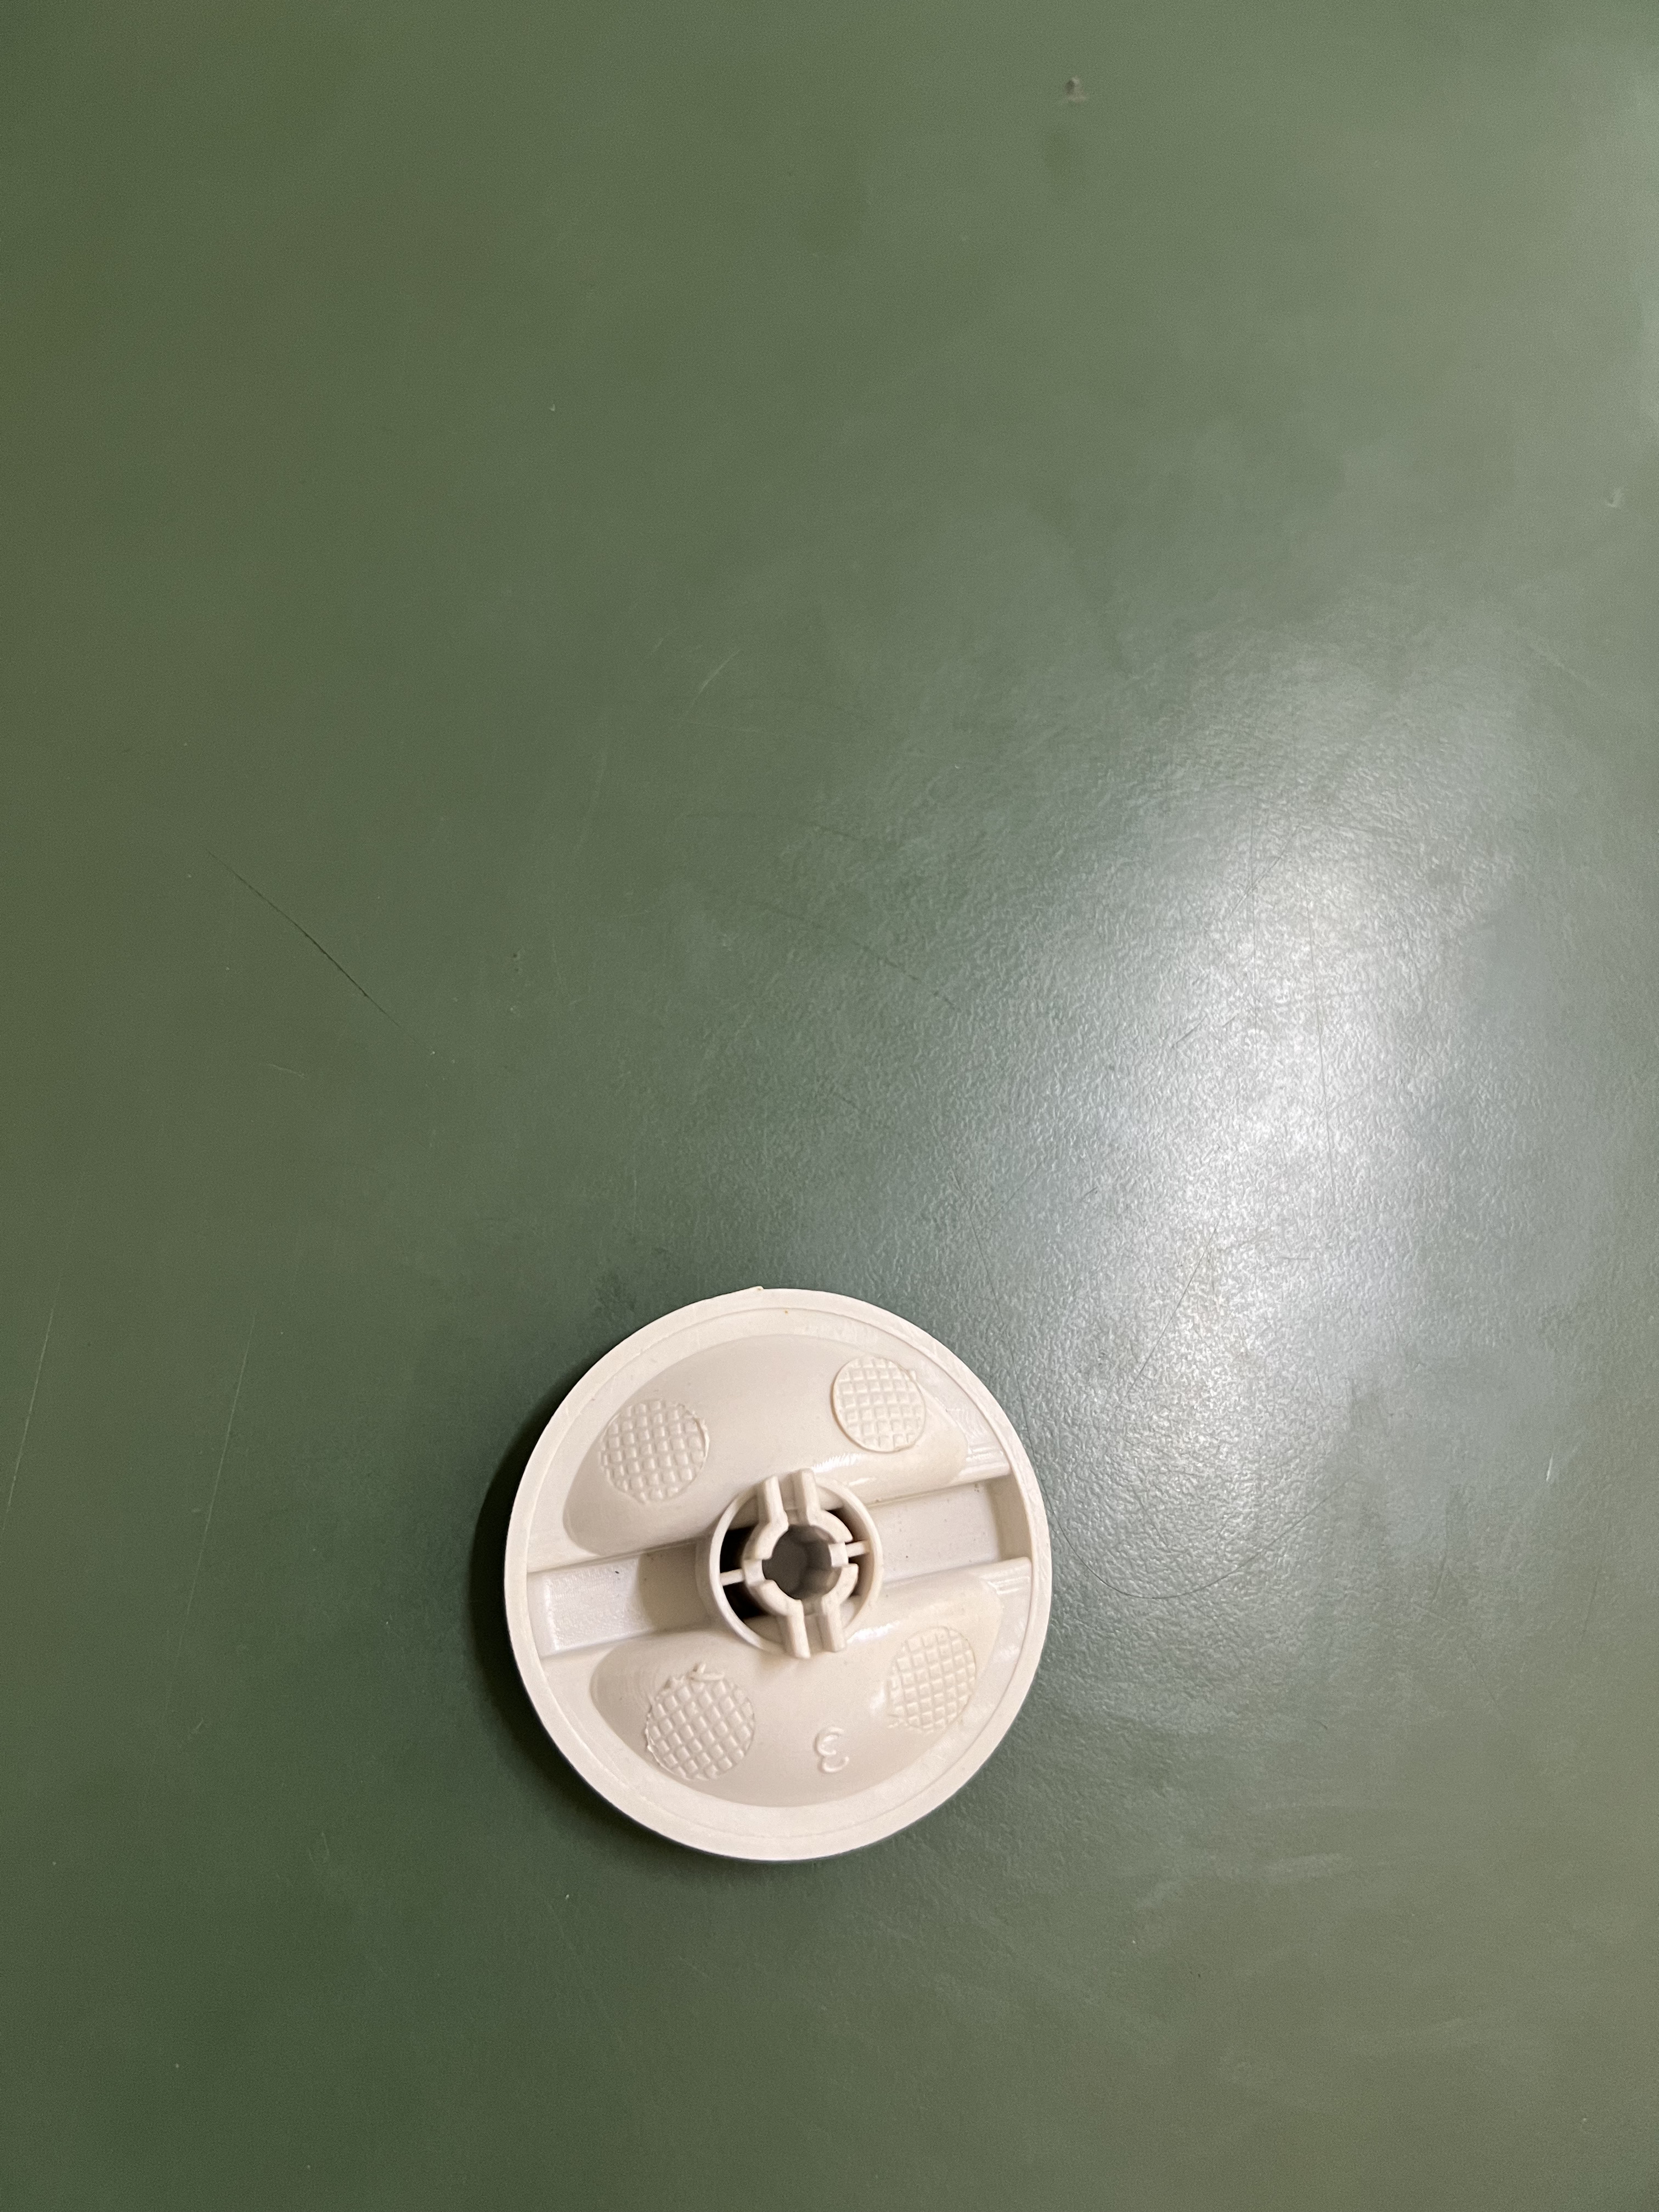regulator: (493, 1247, 1068, 1858)
